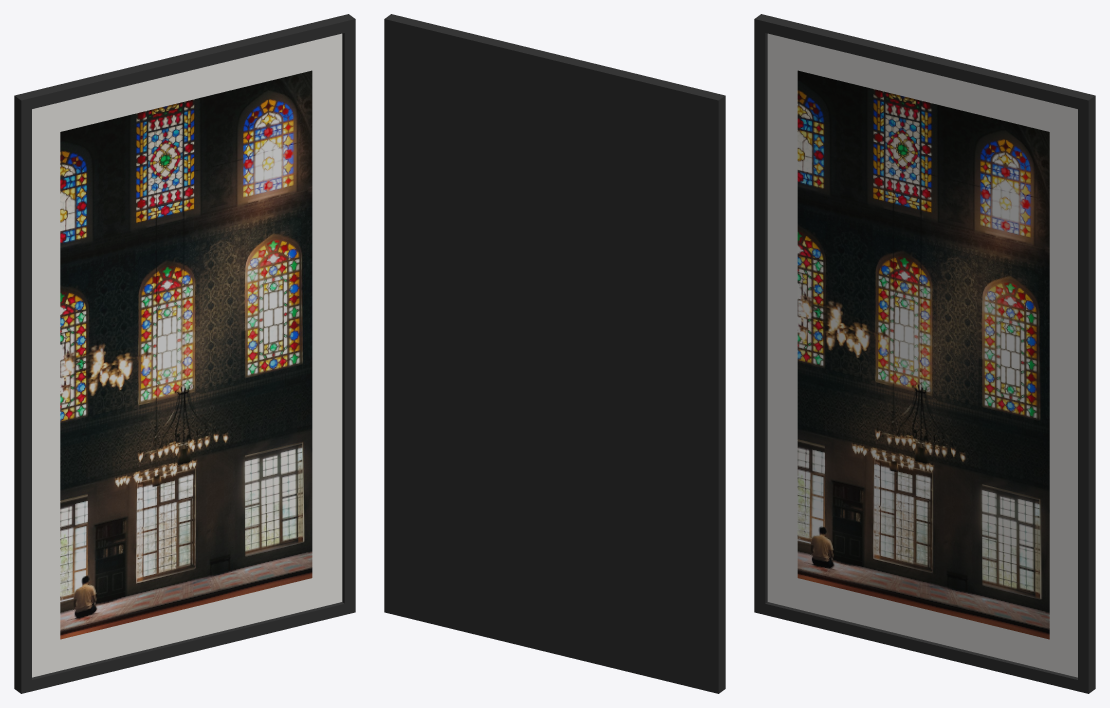
Rendered from bonen-90.gltf.
3 renders of one model, left to right at view 1: azimuth 30°, elevation 25°; view 2: azimuth 150°, elevation 25°; view 3: azimuth 330°, elevation 25°, orthographic.
Parts seen in each view (by area): view 1: tavla; view 2: tavla; view 3: tavla.
Part boxes in pixels (x1,y1,x2,y2): tavla: (14,14,355,693); tavla: (384,14,725,693); tavla: (754,14,1095,693).
Bounding box in the file's own units: 0.6203 × 1.05 × 0.022.
3 materials, 1 textured.
